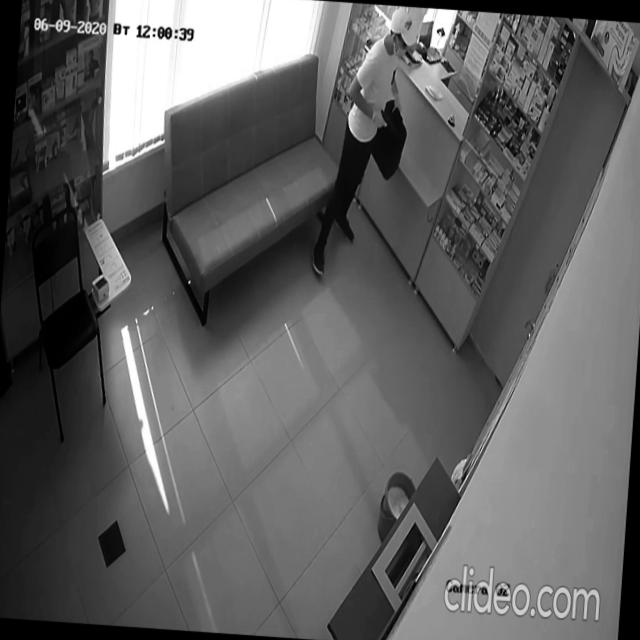gun: (374, 100, 400, 141)
person with a gun: (308, 1, 422, 288)
